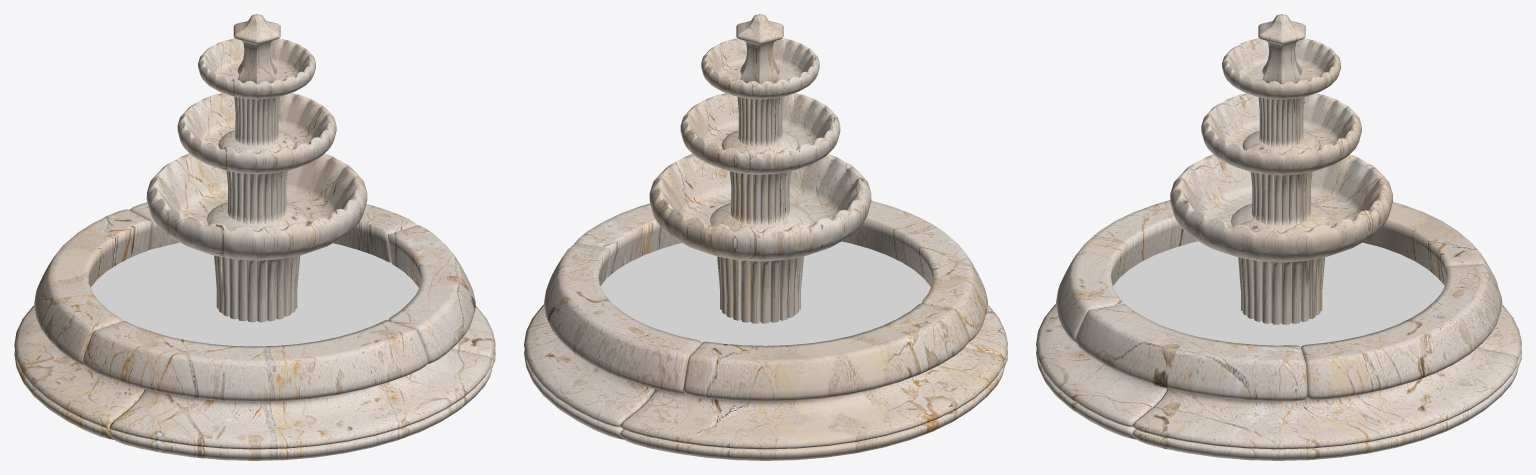
File: fountain.FBX
3 views of the same model, side by side, from view 1: azimuth 30°, elevation 25°; view 2: azimuth 150°, elevation 25°; view 3: azimuth 270°, elevation 25° (orthographic).
Visible parts, largest first — view 1: Cone001, Cone006, Cone002, Cone003, Cone004, Cone005; view 2: Cone001, Cone006, Cone002, Cone003, Cone004, Cone005; view 3: Cone001, Cone006, Cone002, Cone003, Cone004, Cone005.
Boxes of the visible parts, left/top/right/bottom form: Cone001: left=14, top=202, right=495, bottom=460; Cone006: left=91, top=242, right=418, bottom=346; Cone002: left=146, top=153, right=367, bottom=322; Cone003: left=177, top=93, right=336, bottom=230; Cone004: left=198, top=38, right=315, bottom=152; Cone005: left=233, top=14, right=280, bottom=83; Cone001: left=524, top=200, right=1007, bottom=460; Cone006: left=601, top=241, right=930, bottom=345; Cone002: left=649, top=153, right=871, bottom=323; Cone003: left=680, top=93, right=840, bottom=231; Cone004: left=701, top=38, right=819, bottom=153; Cone005: left=736, top=14, right=783, bottom=83; Cone001: left=1036, top=200, right=1521, bottom=460; Cone006: left=1113, top=241, right=1444, bottom=347; Cone002: left=1170, top=154, right=1392, bottom=324; Cone003: left=1201, top=93, right=1361, bottom=232; Cone004: left=1222, top=38, right=1340, bottom=153; Cone005: left=1258, top=14, right=1305, bottom=83.
Bounding box in the file's own units: 605 × 484 × 605.
